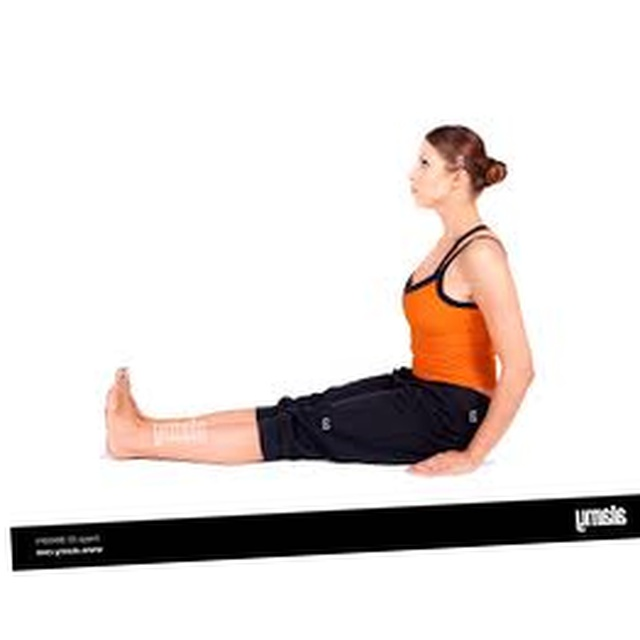Staff_Pose: (102, 123, 536, 477)
